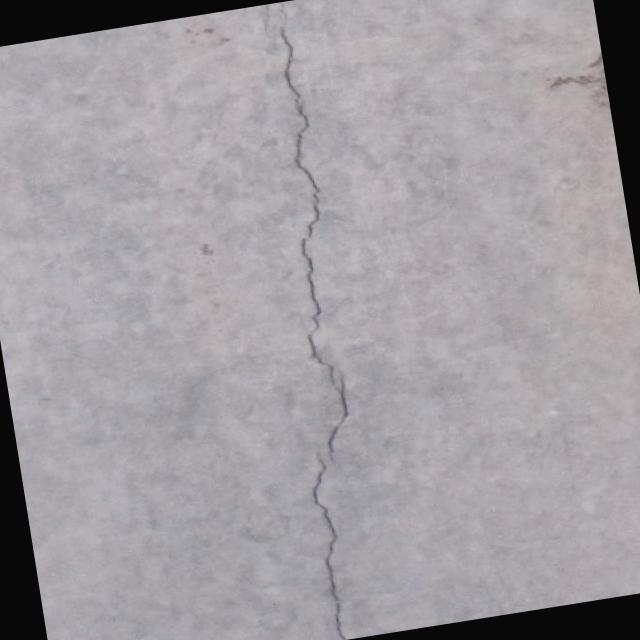crack: (231, 1, 389, 640)
